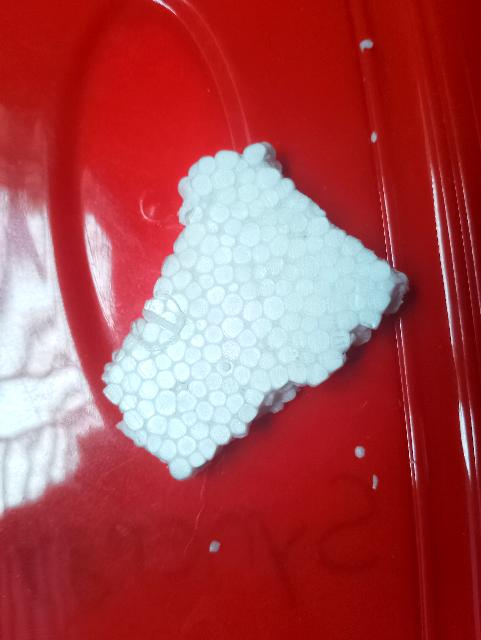cocksheet: (52, 145, 401, 483)
